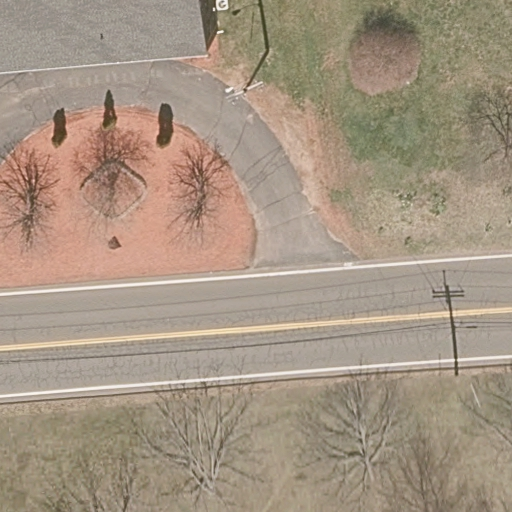DT: (431, 269, 465, 376), (223, 50, 269, 106)
